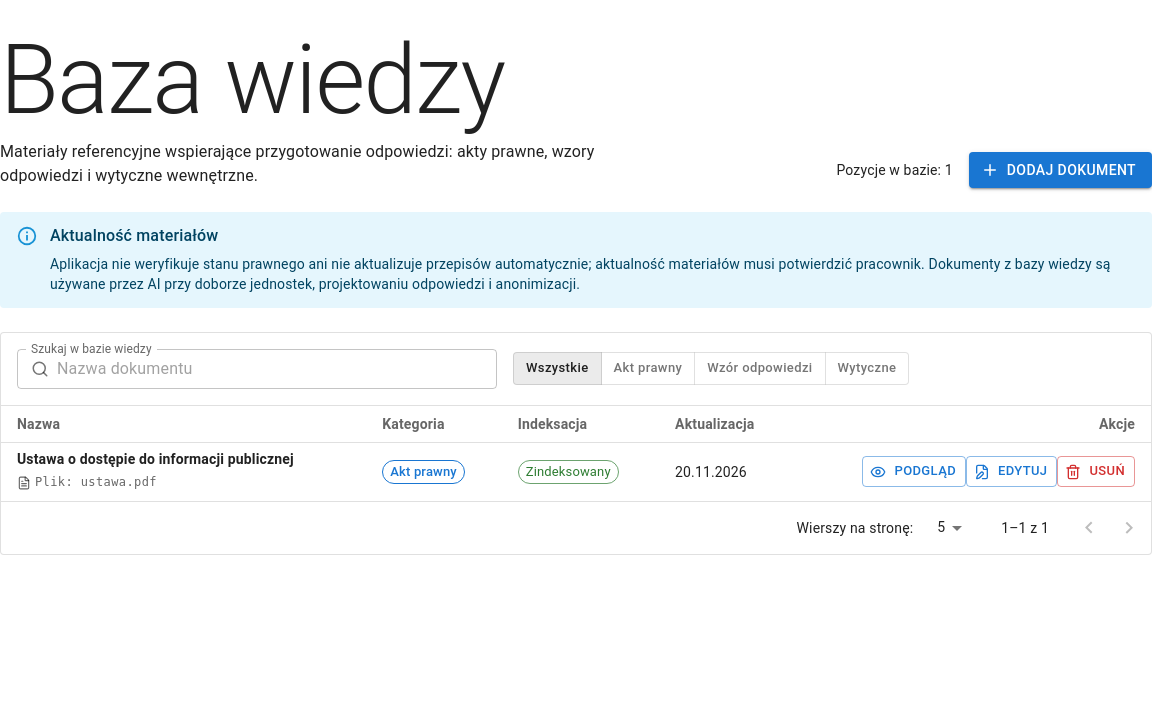
Test case: KnowledgePage › edits the name and category without replacing the file
Later steps or results of the test are not shown.
Click the button with aria-label "Edytuj: Ustawa o dostępie do informacji publicznej" at point(1012, 472), box [966,456,1057,487]
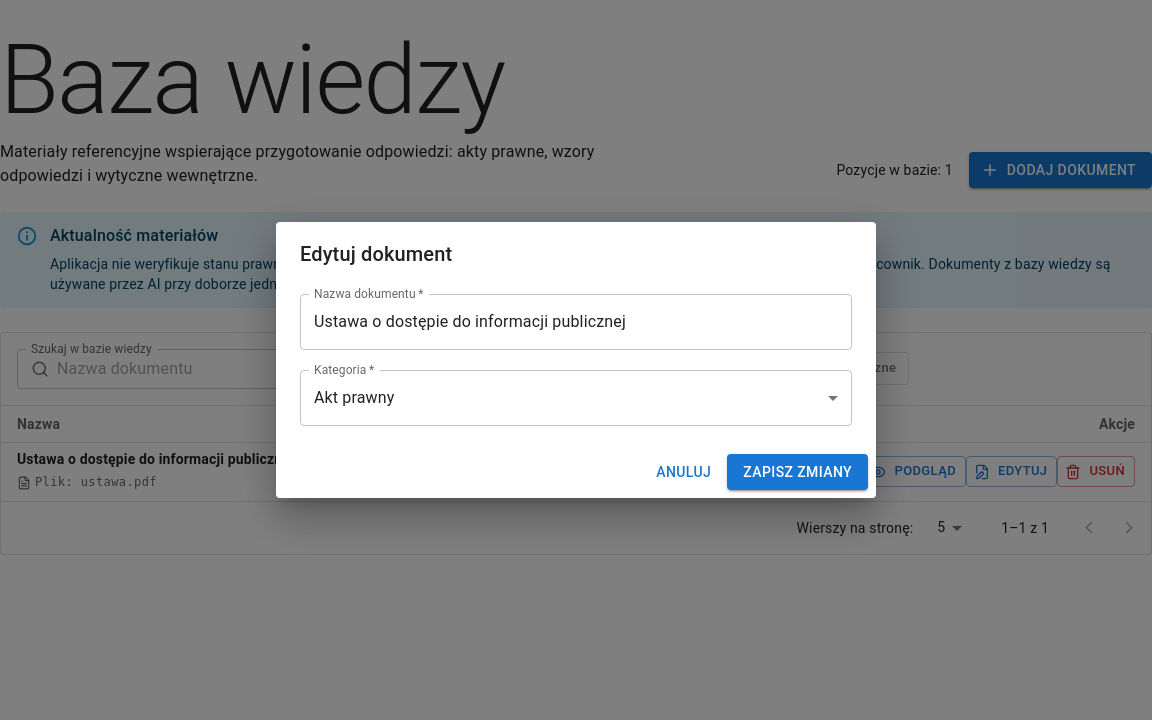
Clear the field labelled "Nazwa dokumentu *" at point(576, 322), box [300,294,852,350]
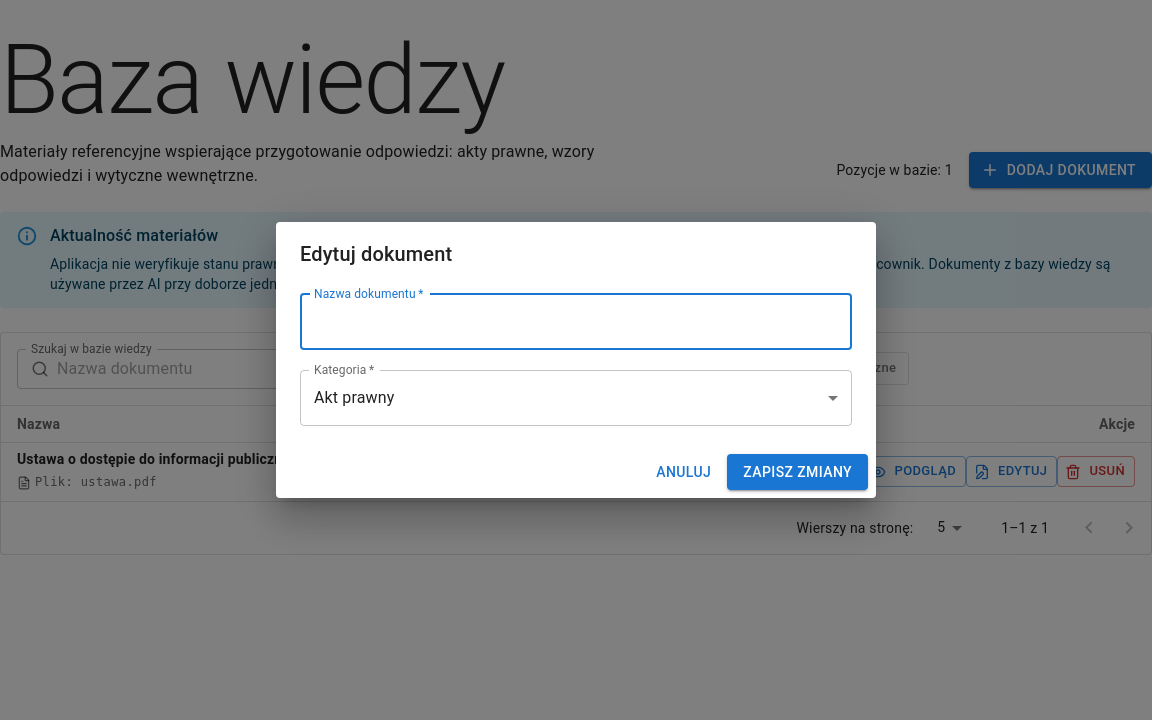
Click the button "Zapisz zmiany" at point(798, 472), box [727,454,868,490]
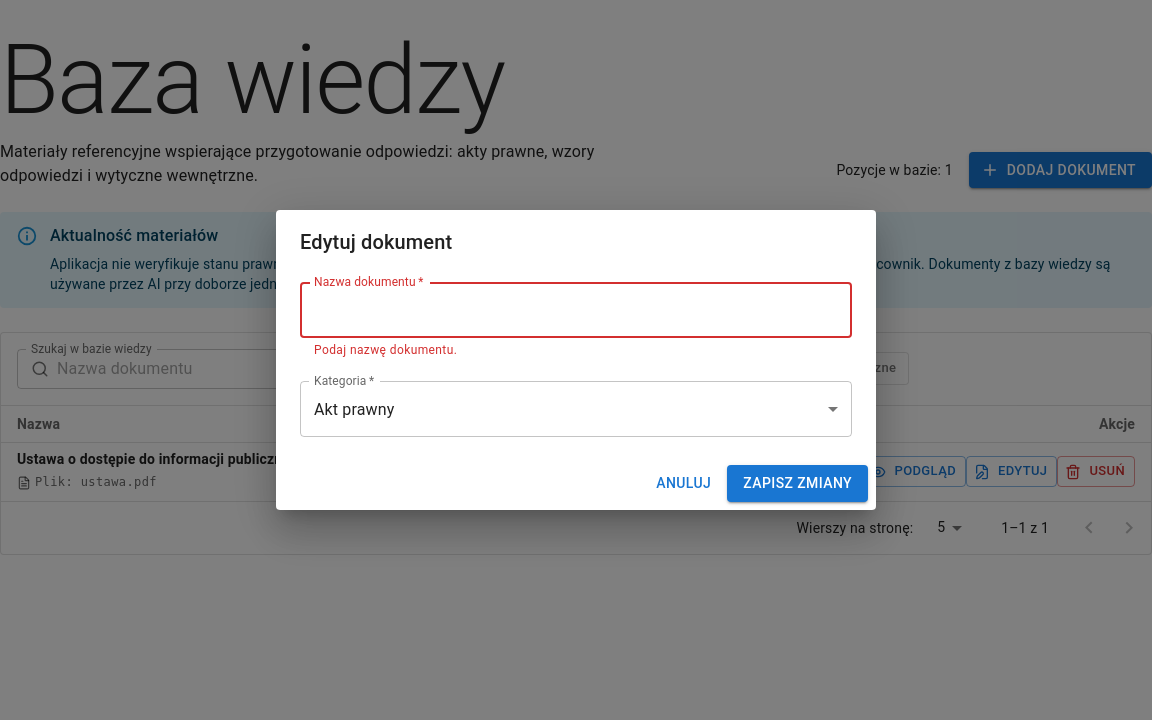
Expected: the text "Podaj nazwę dokumentu." is shown, [314,343,457,357]
